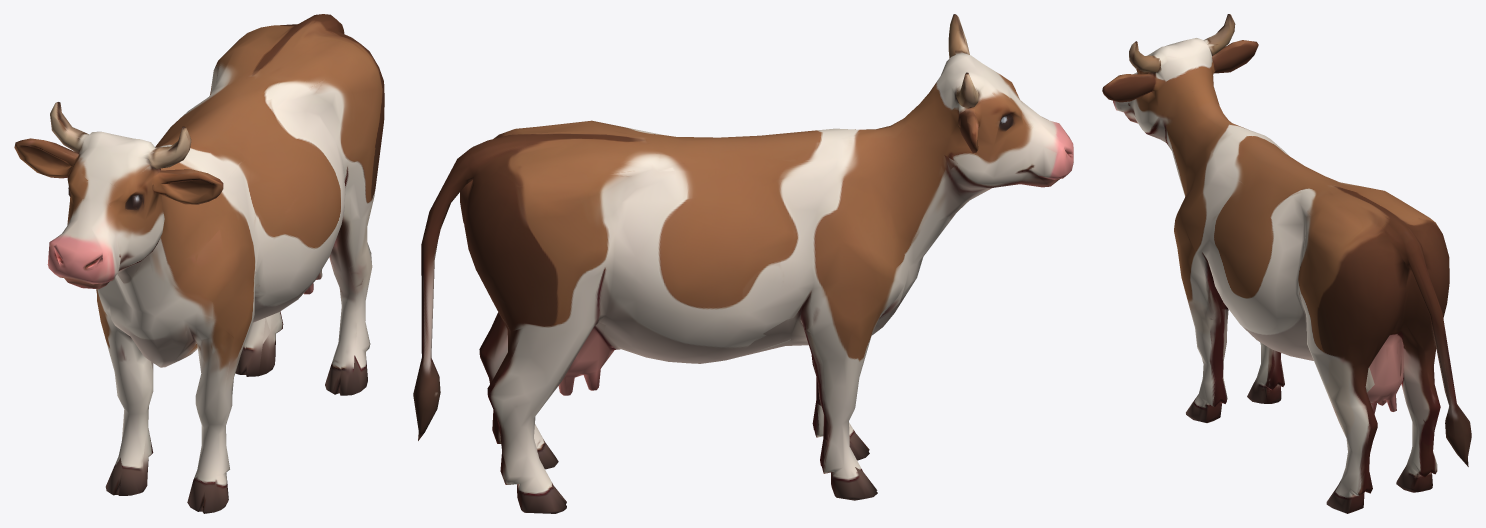
The model's file is VacaP.glb.
3 renders of one model, left to right at view 1: azimuth 30°, elevation 25°; view 2: azimuth 150°, elevation 25°; view 3: azimuth 270°, elevation 25°, orthographic. The views are drawn at different scales.
Parts seen in each view (by area): view 1: mesh_rep_0_ori_repair_quad.004; view 2: mesh_rep_0_ori_repair_quad.004; view 3: mesh_rep_0_ori_repair_quad.004.
Part boxes in pixels (x1,y1,x2,y2): mesh_rep_0_ori_repair_quad.004: (14,14,384,513); mesh_rep_0_ori_repair_quad.004: (413,14,1073,513); mesh_rep_0_ori_repair_quad.004: (1102,14,1471,513).
Size of the model in its own units: 0.8603 by 0.7448 by 0.7161.
Materials: 1 (1 with a texture image).
